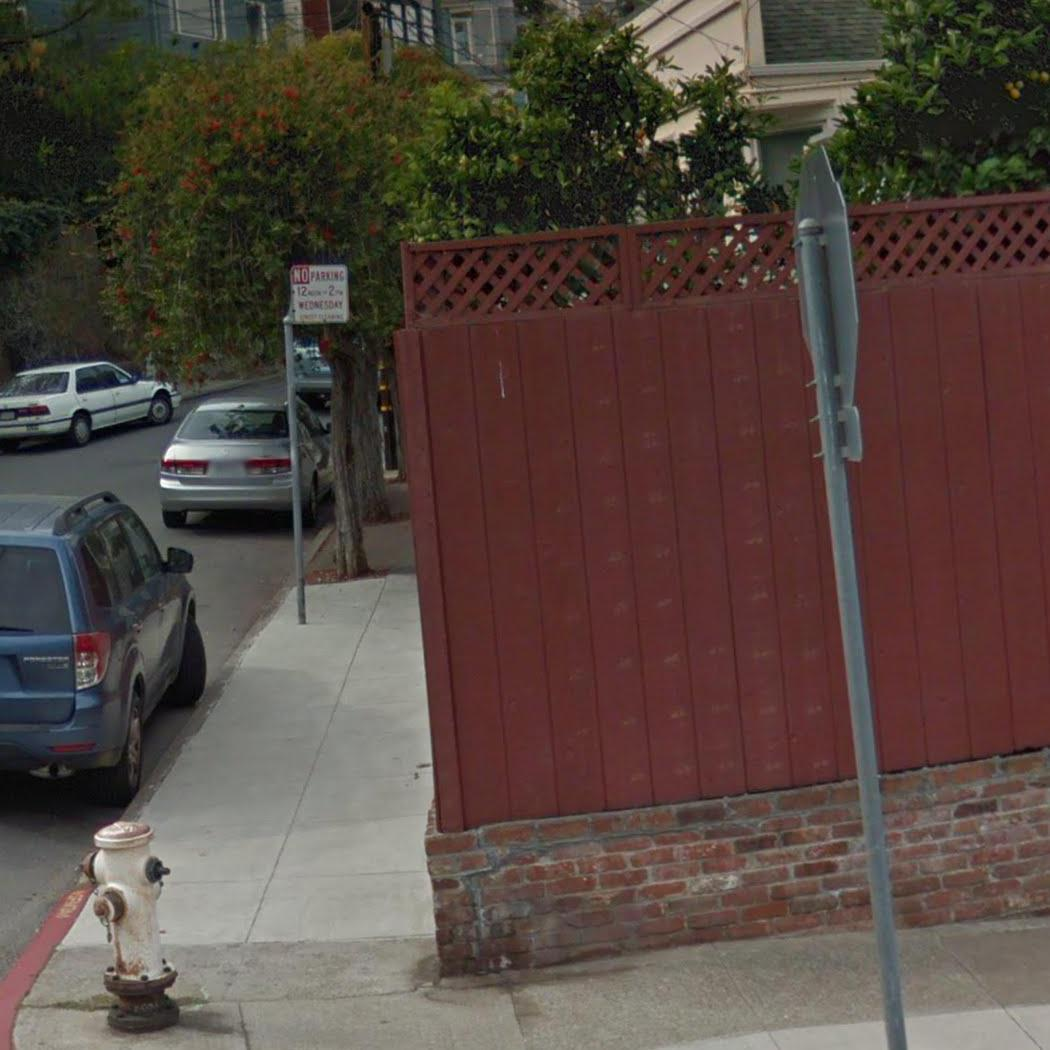No Parking: (288, 259, 353, 326)
